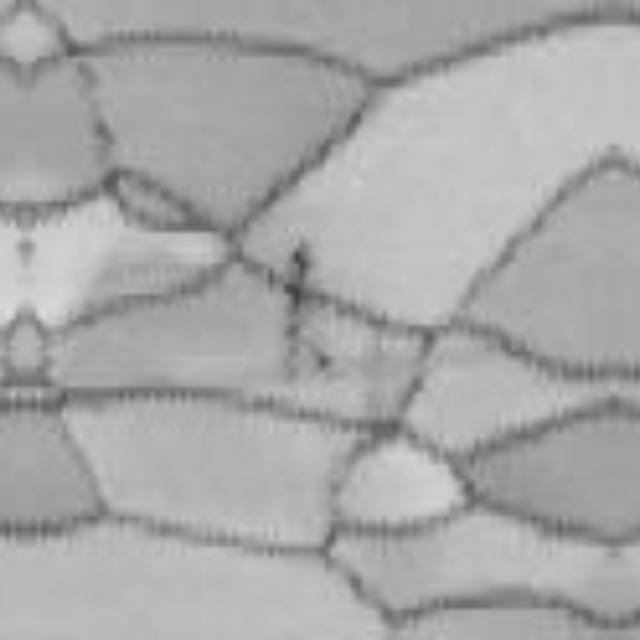good_void: (295, 243, 310, 341), (321, 351, 331, 372)
